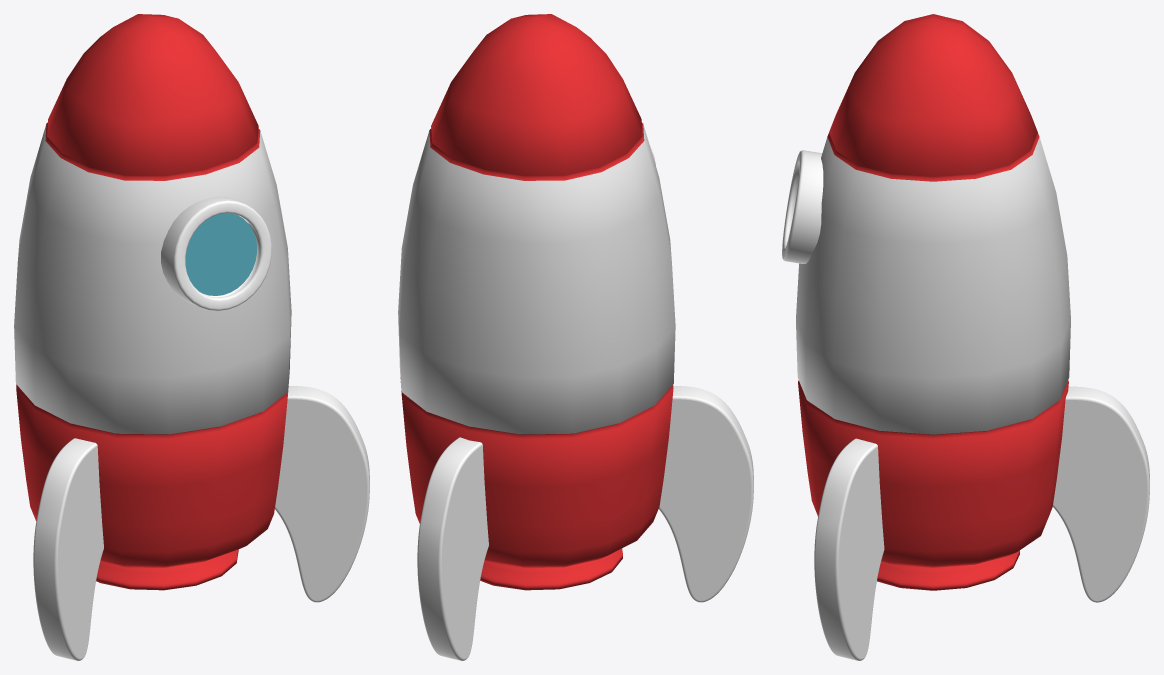
Rendered from rocket.glb.
The picture shows the model from 3 angles, left to right: view 1: azimuth 30°, elevation 25°; view 2: azimuth 150°, elevation 25°; view 3: azimuth 270°, elevation 25°; orthographic projection.
Visible parts, largest first — view 1: Cube, BezierCircle.002, BezierCircle, Cylinder; view 2: Cube, BezierCircle, BezierCircle.001; view 3: Cube, BezierCircle.001, BezierCircle.002, Cylinder.
Part boxes in pixels (box(x1,y1,x2,y2)): Cube: box(14, 14, 291, 590); BezierCircle.002: box(275, 386, 369, 602); BezierCircle: box(33, 438, 103, 660); Cylinder: box(161, 196, 271, 310); Cube: box(398, 14, 675, 590); BezierCircle: box(658, 386, 753, 602); BezierCircle.001: box(417, 437, 488, 660); Cube: box(796, 14, 1070, 590); BezierCircle.001: box(1052, 386, 1149, 602); BezierCircle.002: box(814, 438, 884, 660); Cylinder: box(782, 150, 823, 263).
Bounding box in the file's own units: 2.96 × 4.89 × 2.82.
